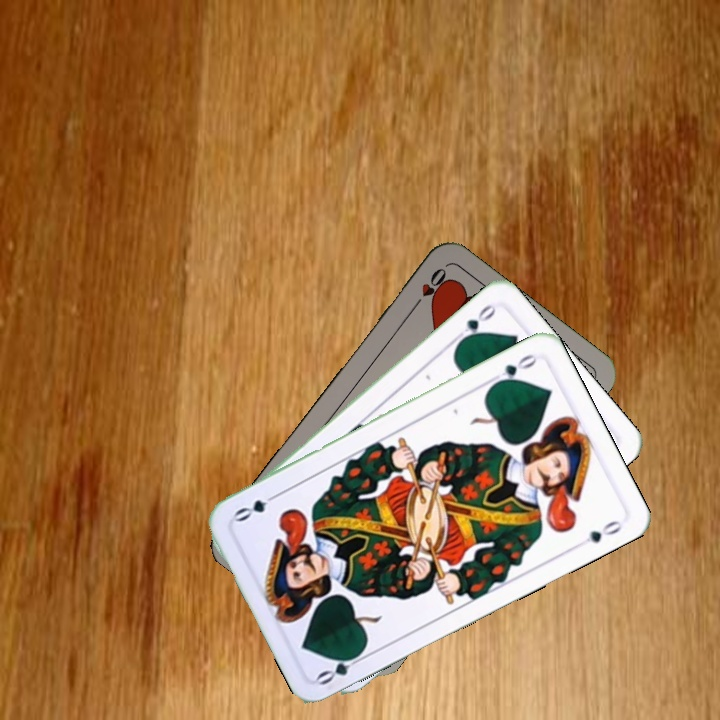GO: (449, 300, 499, 347), (313, 647, 369, 688), (485, 350, 541, 389)
HO: (407, 263, 450, 314)
